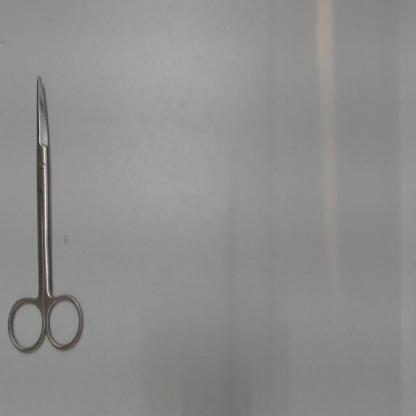Curved Mayo Scissors: (5, 72, 86, 361)
